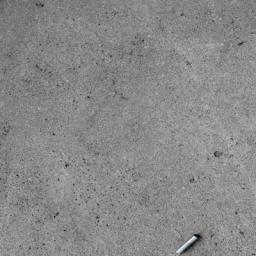FOD: (175, 231, 204, 256)
